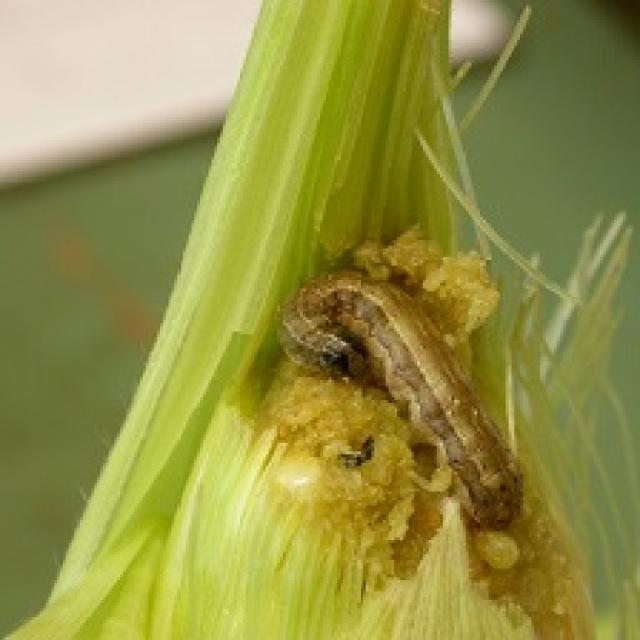worm: (284, 260, 533, 536)
